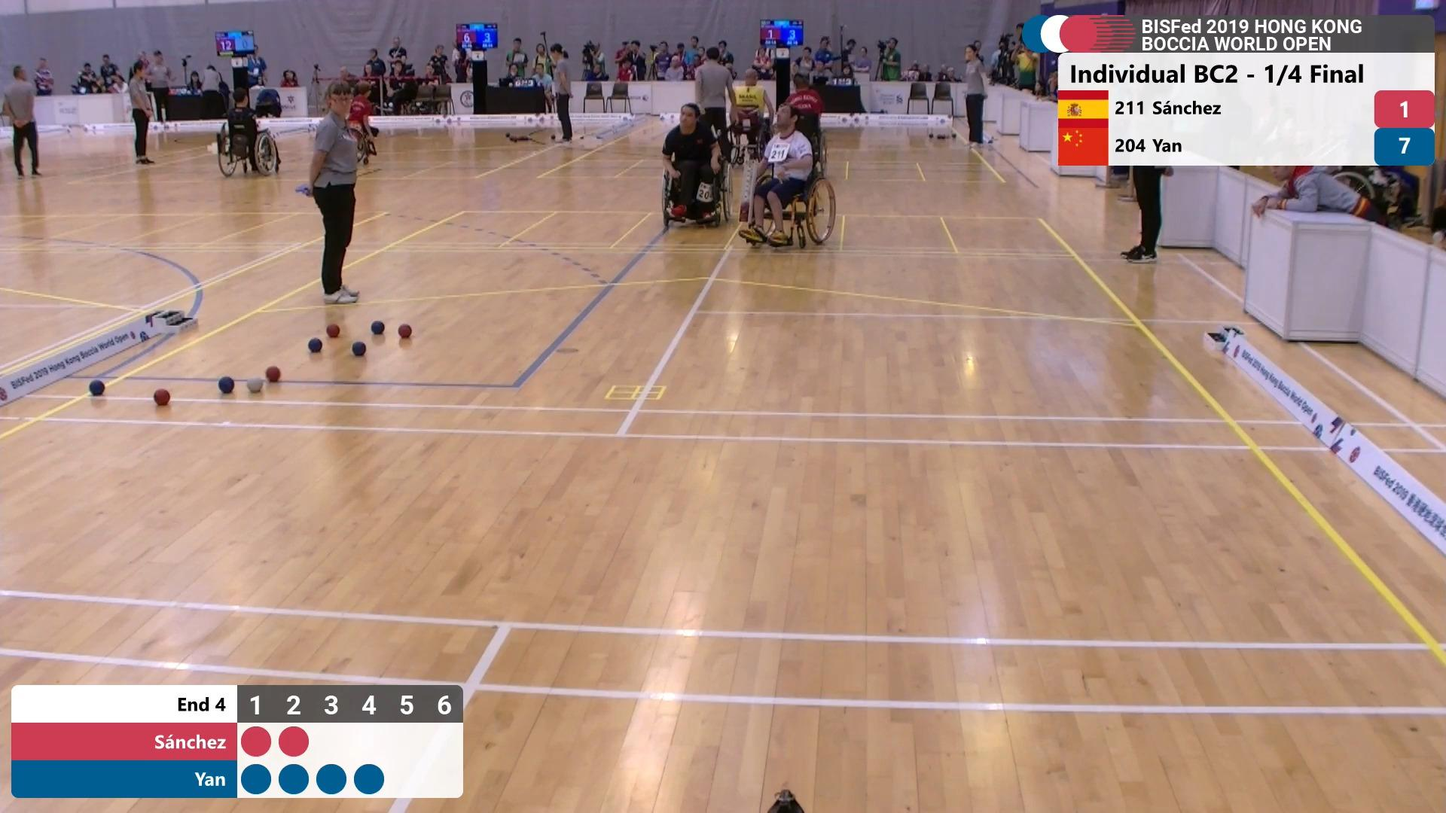blue_ball: (217, 375, 236, 396), (88, 378, 106, 398), (351, 339, 367, 359), (371, 318, 386, 337), (308, 336, 323, 353)
red_ball: (152, 386, 171, 407), (264, 364, 282, 384), (396, 322, 413, 340), (326, 322, 340, 339)
white_ball: (246, 374, 264, 393)
